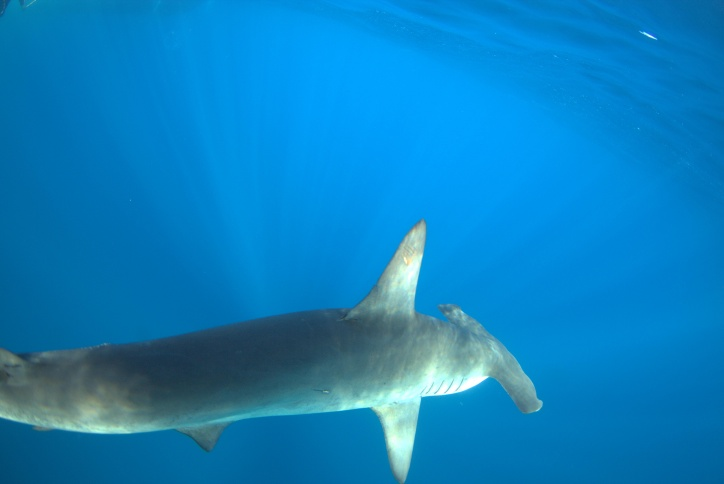Hammer: (15, 193, 558, 484)
